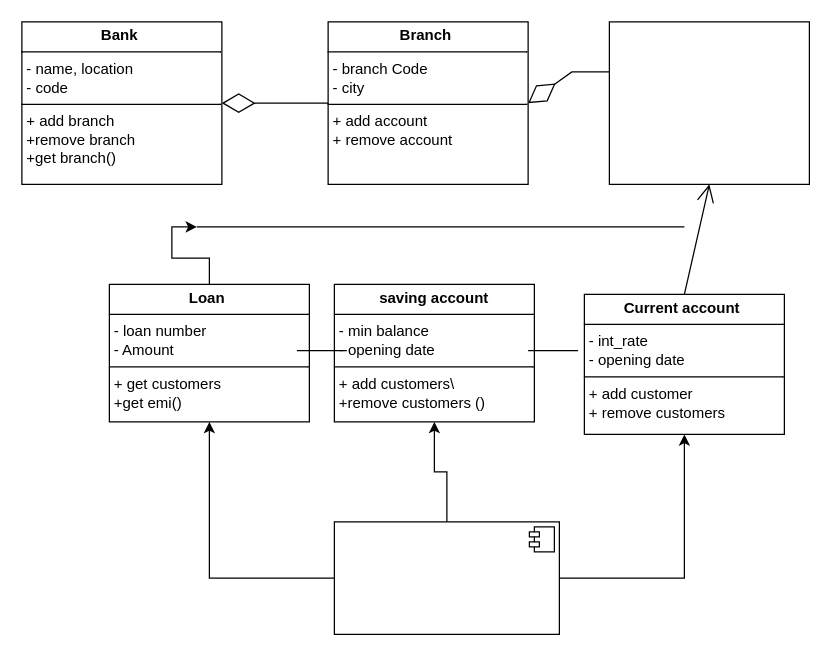
This 831x656 diagram has some shape labels left out. The box of each missing label's shape, as (x1, y1, x2, y2) in pixels:
Account - Account number - balance + deposit + withdraw + check balance: (608, 21, 809, 184)
Customer + id + name + address: (333, 521, 559, 634)
